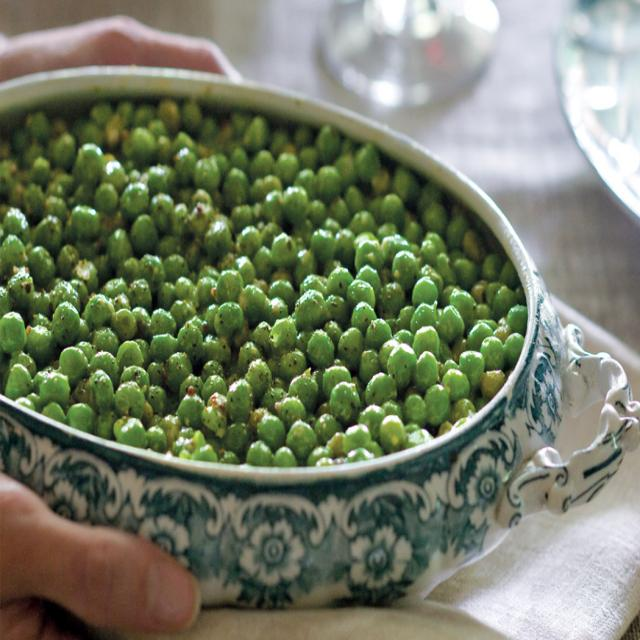pea: (228, 179, 427, 446), (32, 251, 230, 441), (426, 256, 518, 394)
